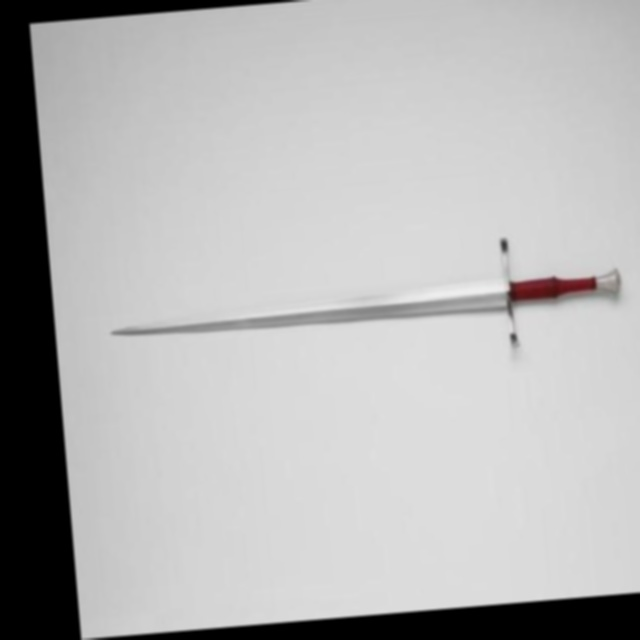Sharp-Object: (102, 259, 637, 362)
